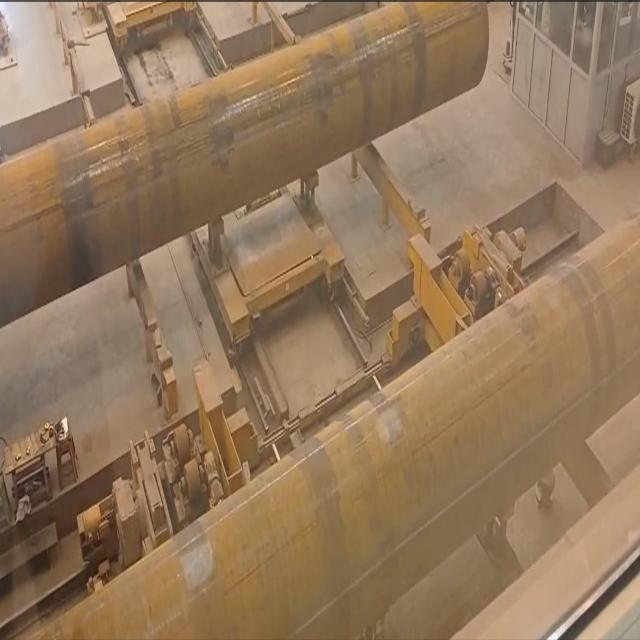warningzone: (7, 145, 604, 629), (110, 6, 234, 107)
